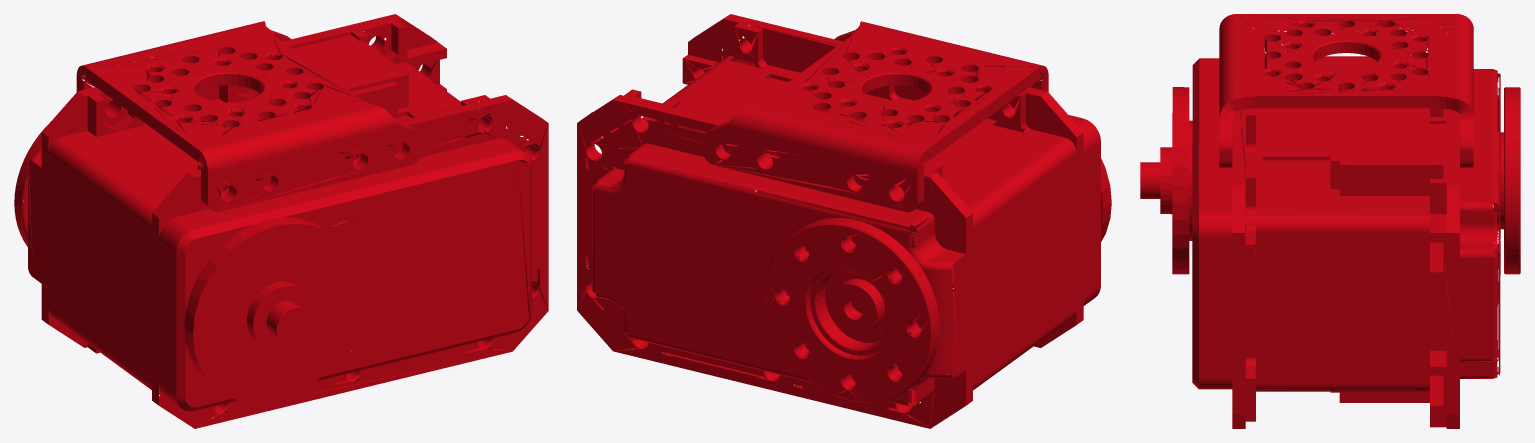
Rendered from brazo1.dae.
3 views of the same model, side by side, from view 1: azimuth 30°, elevation 25°; view 2: azimuth 150°, elevation 25°; view 3: azimuth 270°, elevation 25° (orthographic). The views are drawn at different scales.
Parts seen in each view (by area): view 1: link2; view 2: link2; view 3: link2.
Boxes of the visible parts, left/top/right/bottom form: link2: left=14, top=14, right=548, bottom=428; link2: left=577, top=14, right=1111, bottom=428; link2: left=1140, top=14, right=1520, bottom=428.
Bounding box in the file's own units: 0.0651 × 0.0568 × 0.0441.
